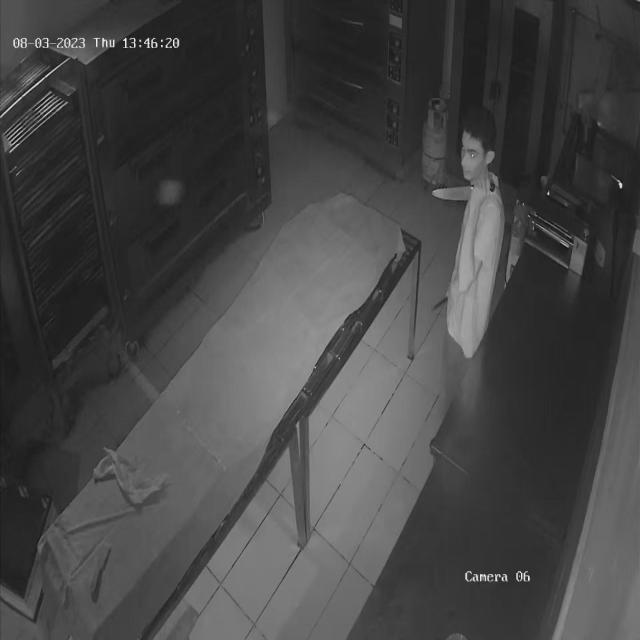Knife: (420, 174, 498, 204)
